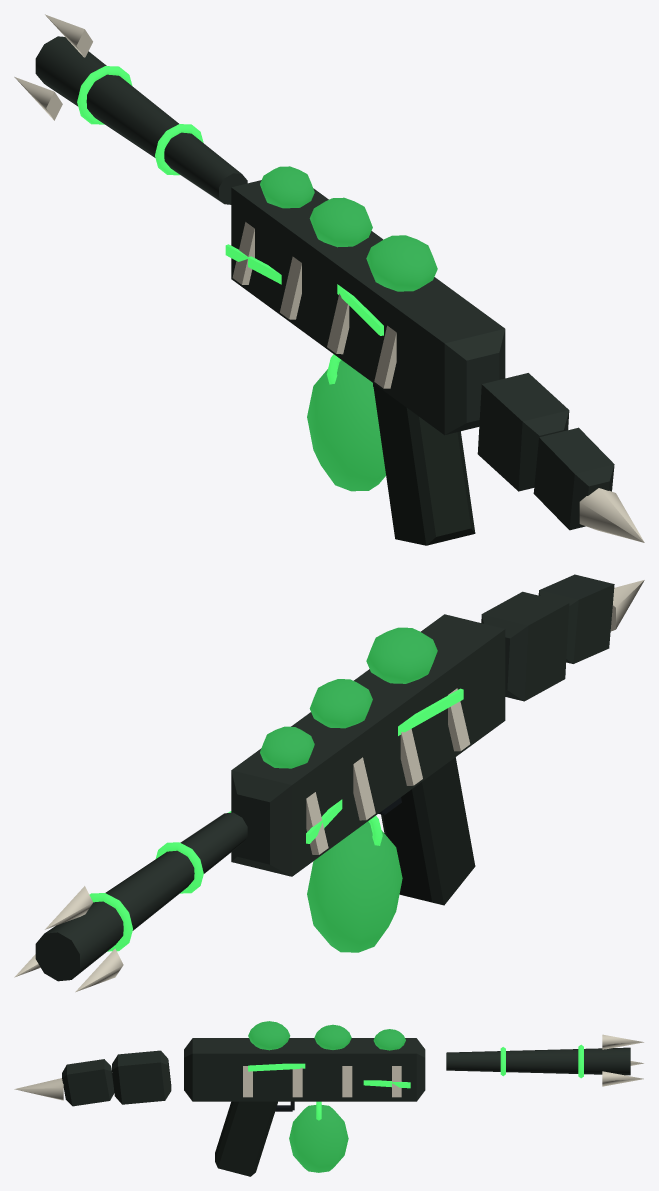
File: weapon_reaver.glb
3 renders of one model, top to bottom at view 1: azimuth 30°, elevation 25°; view 2: azimuth 150°, elevation 25°; view 3: azimuth 270°, elevation 25°, orthographic. The views are drawn at different scales.
Visible parts, largest first — view 1: weapon_reaver; view 2: weapon_reaver; view 3: weapon_reaver.
Boxes of the visible parts, x1,y1,x2,y2 form: weapon_reaver: [14, 14, 644, 545]; weapon_reaver: [14, 574, 644, 992]; weapon_reaver: [14, 1021, 643, 1176].
Bounding box in the file's own units: 0.0742 × 0.232 × 0.89.
